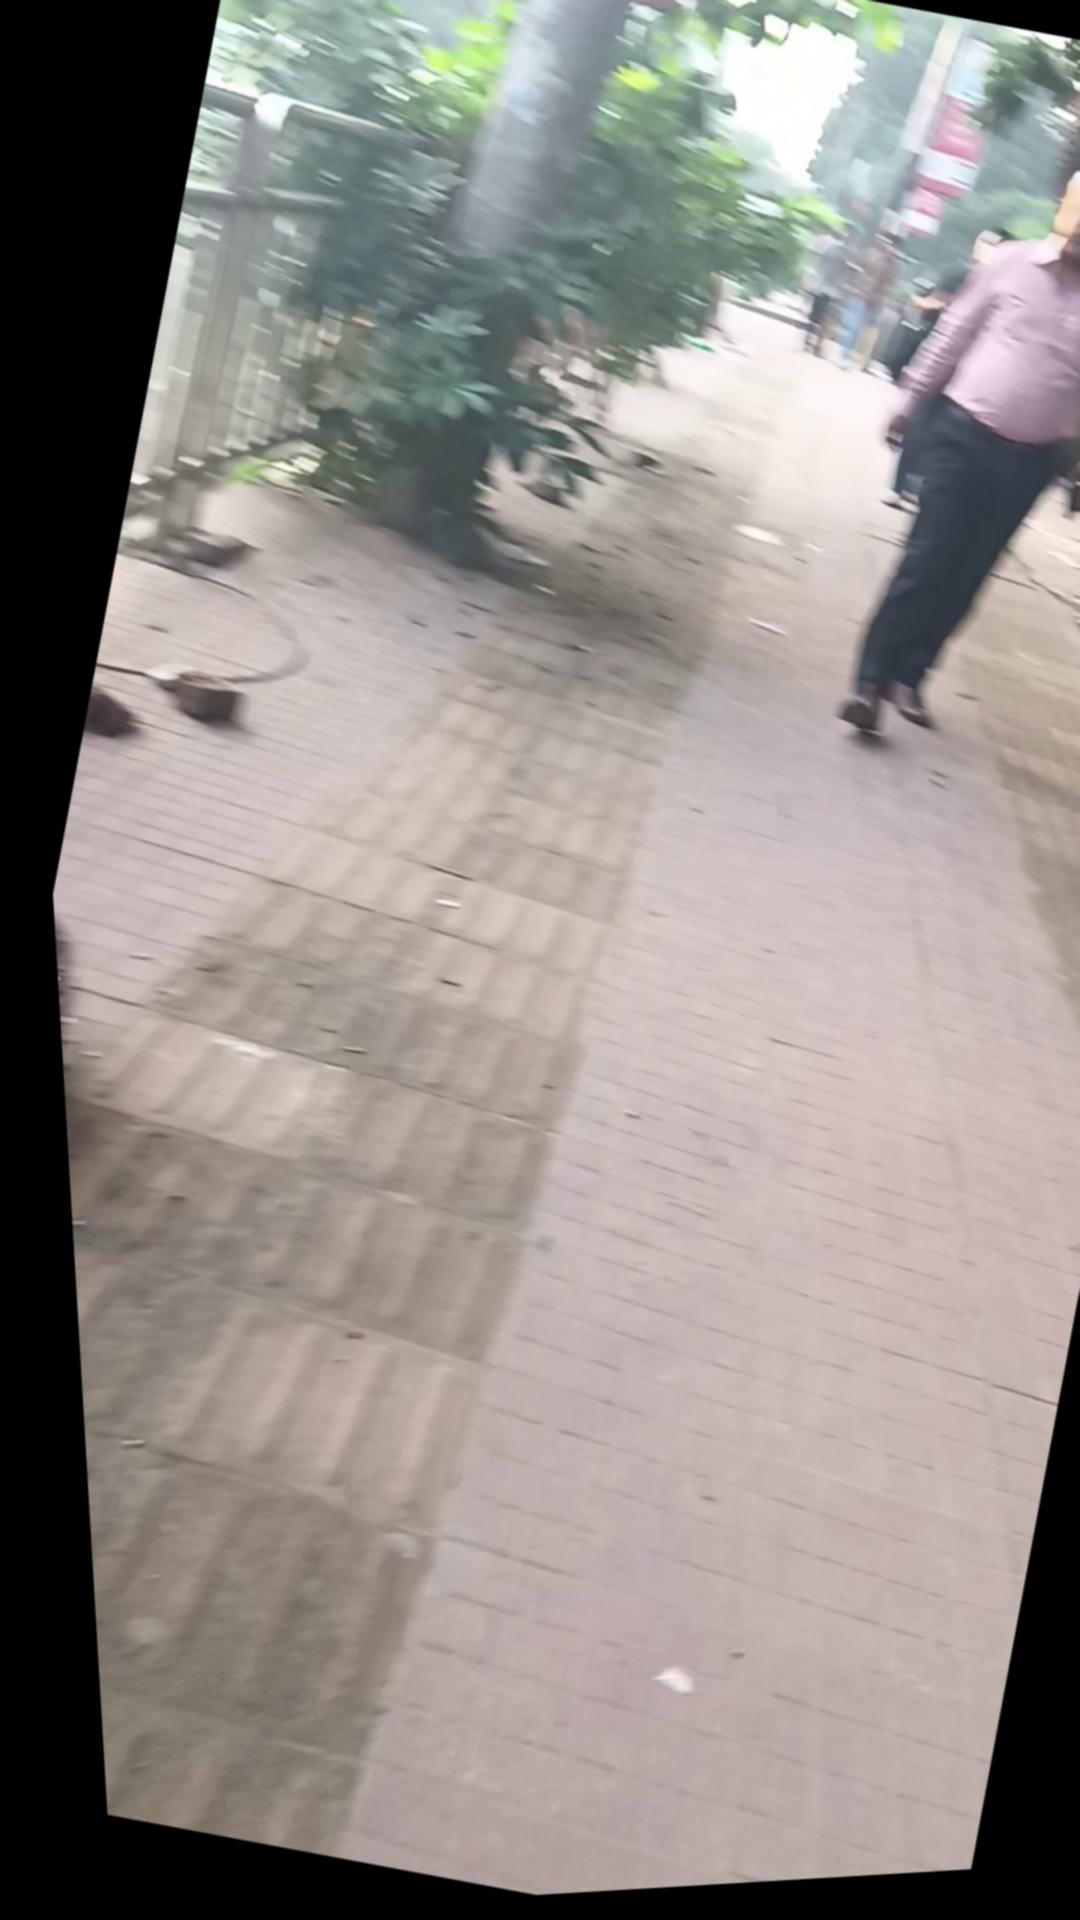Muddy road: (791, 141, 1080, 795)
Potted-plant: (9, 148, 1080, 1920)
